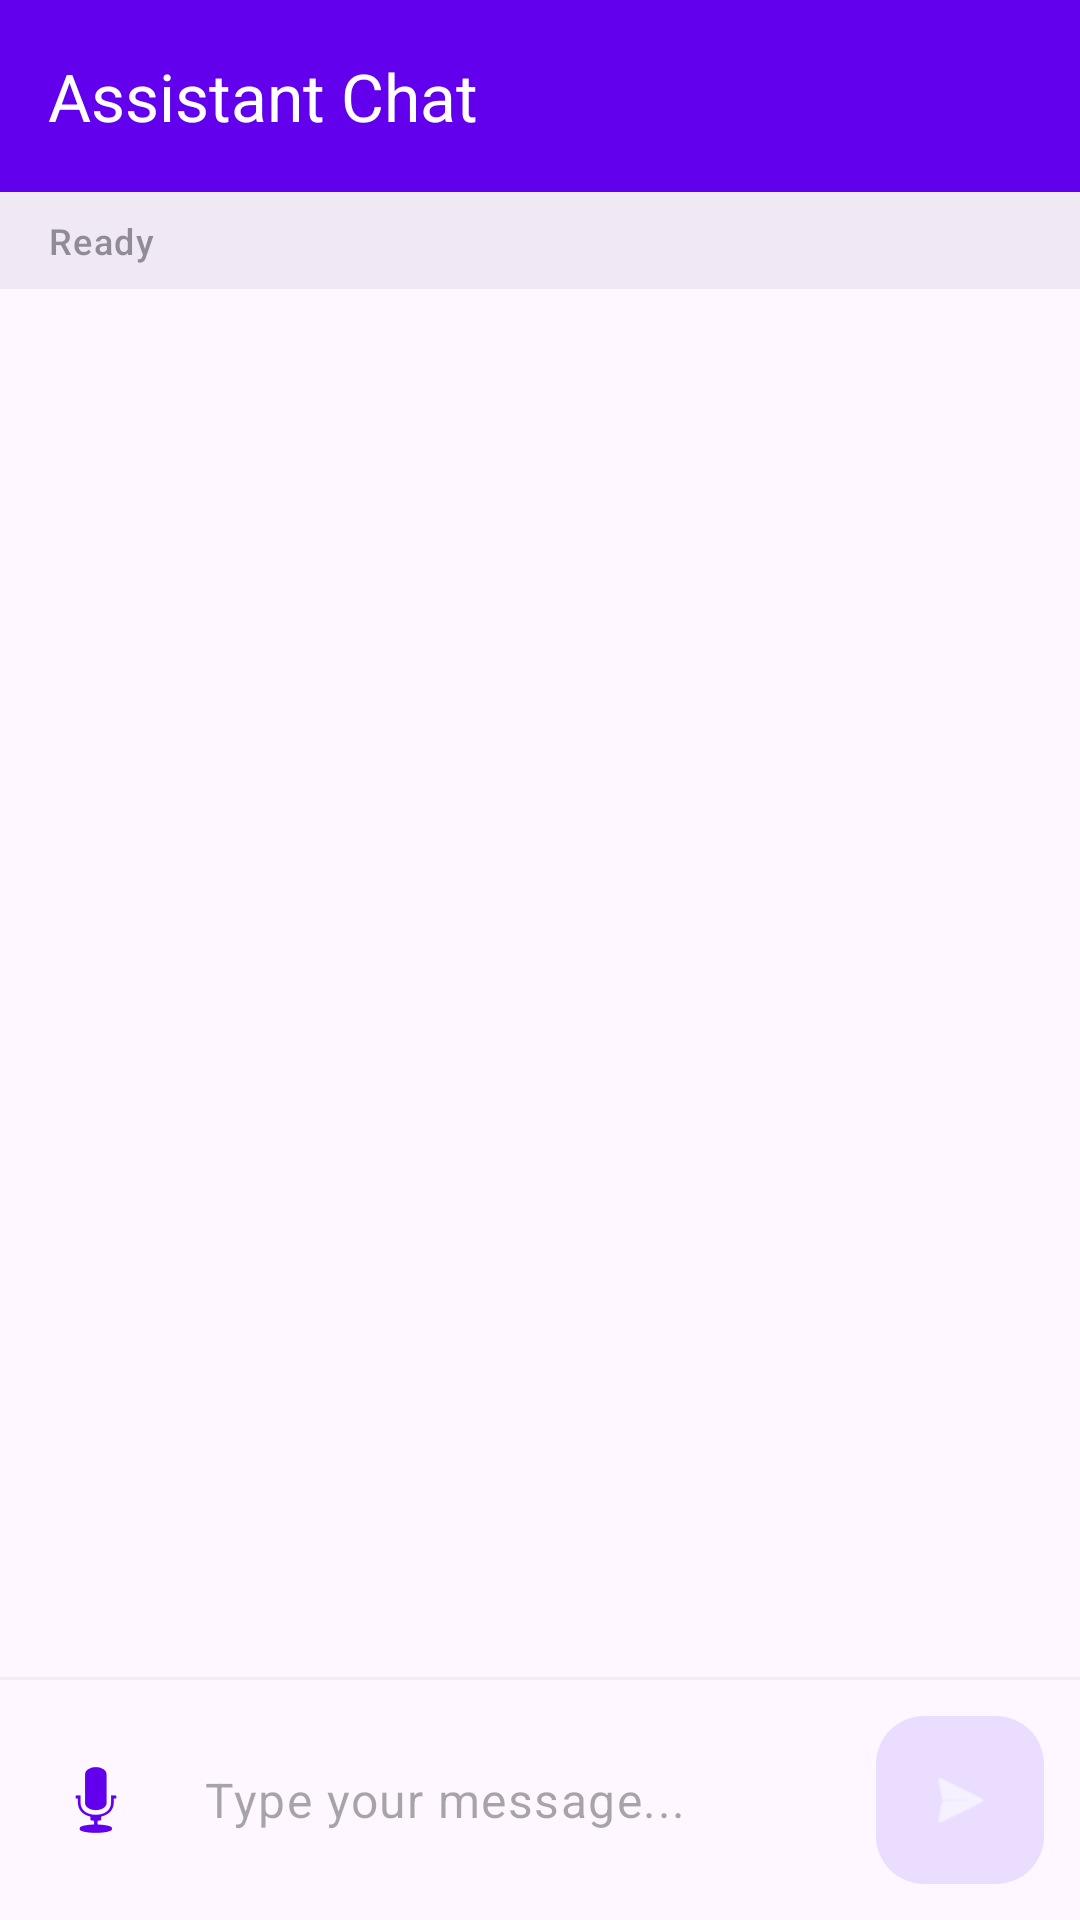

Named icons in this screenshot (1080px×1920px) and their bounding boxes, rect(x1, y1, x2, y2):
Send message: rect(876, 1716, 1044, 1884)
Voice input: rect(75, 1767, 117, 1833)
